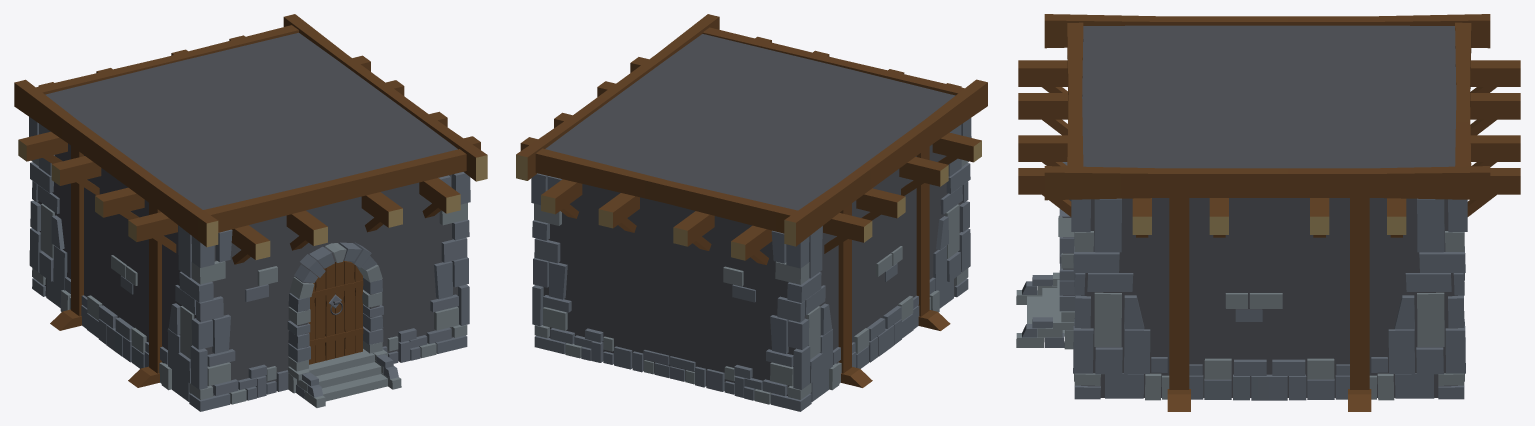
File: Fantasy House.glb
3 views of the same model, side by side, from view 1: azimuth 30°, elevation 25°; view 2: azimuth 150°, elevation 25°; view 3: azimuth 270°, elevation 25° (orthographic). The views are drawn at different scales.
Visible parts, largest first — view 1: Fantasy House; view 2: Fantasy House; view 3: Fantasy House.
Boxes of the visible parts, x1=… form: Fantasy House: x1=14, y1=14, x2=487, y2=411; Fantasy House: x1=516, y1=14, x2=987, y2=411; Fantasy House: x1=1016, y1=14, x2=1520, y2=411.
Size of the model in its own units: 1.94 by 1.07 by 2.12.
